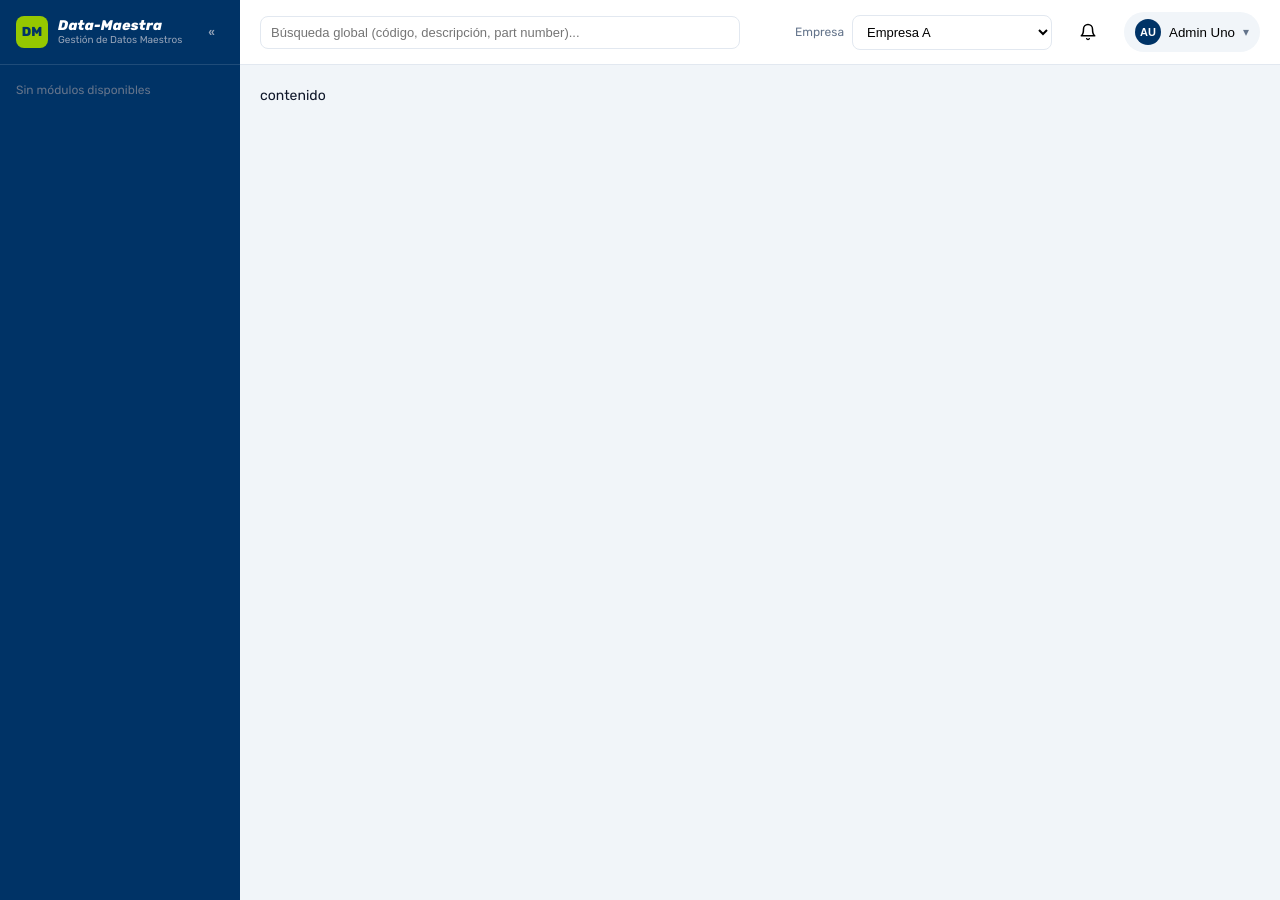
Scenario: Campana 11G › estado vacío cuando no hay notificaciones
Click the button named "Notificaciones". click: [1088, 32]
box: top-left (1064, 14), bottom-right (1112, 50)
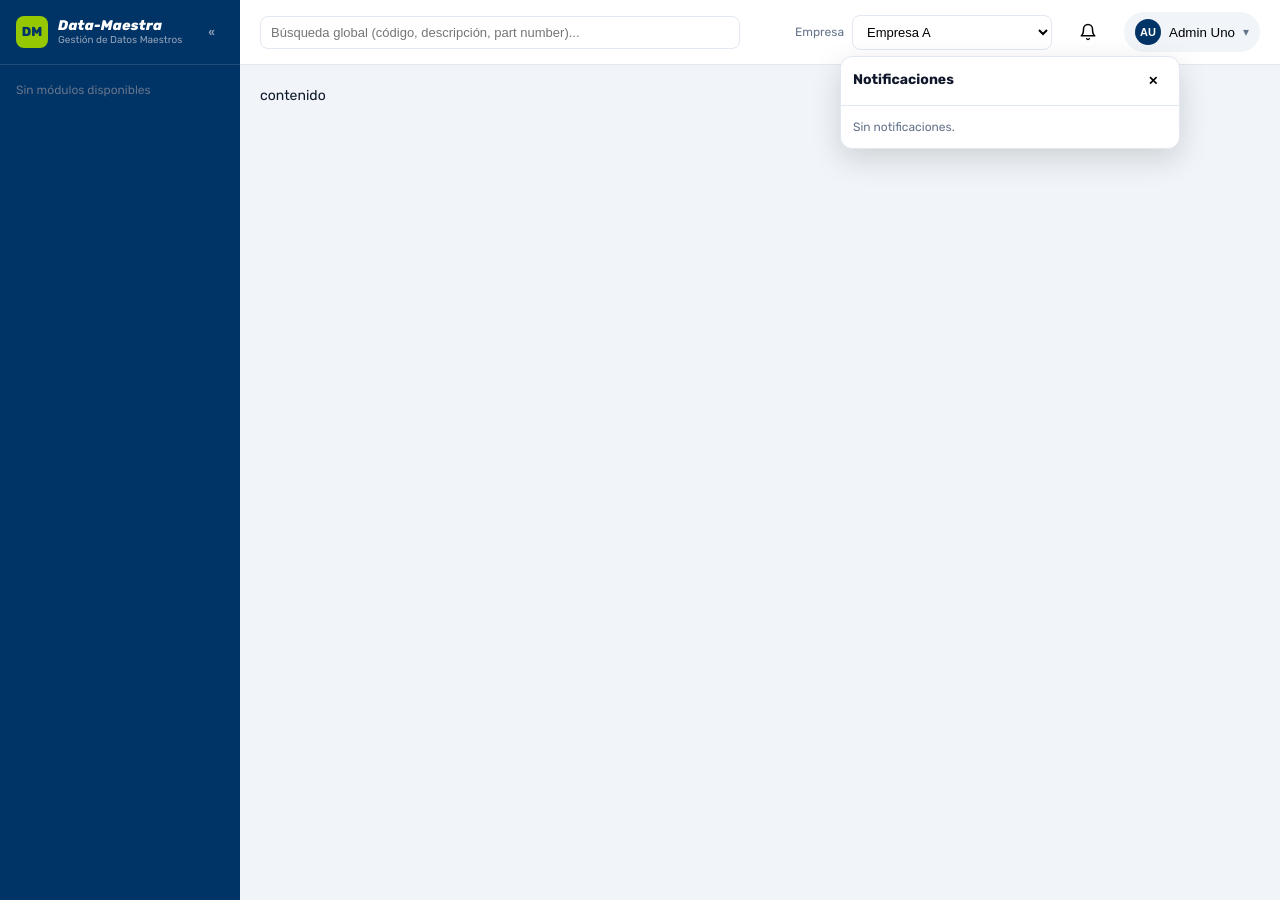
Expected: the text "Sin notificaciones." is shown, top-left (853, 120), bottom-right (955, 134)
